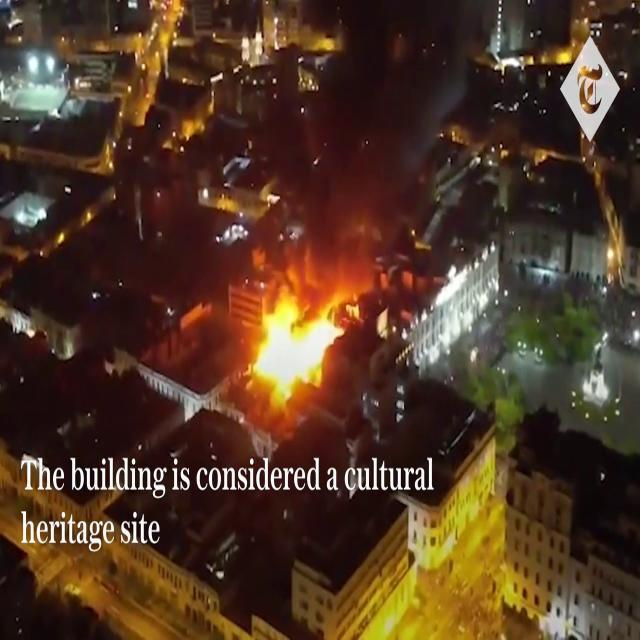Fire: (240, 284, 350, 402), (420, 266, 492, 362)
Smoke: (286, 1, 484, 280)
